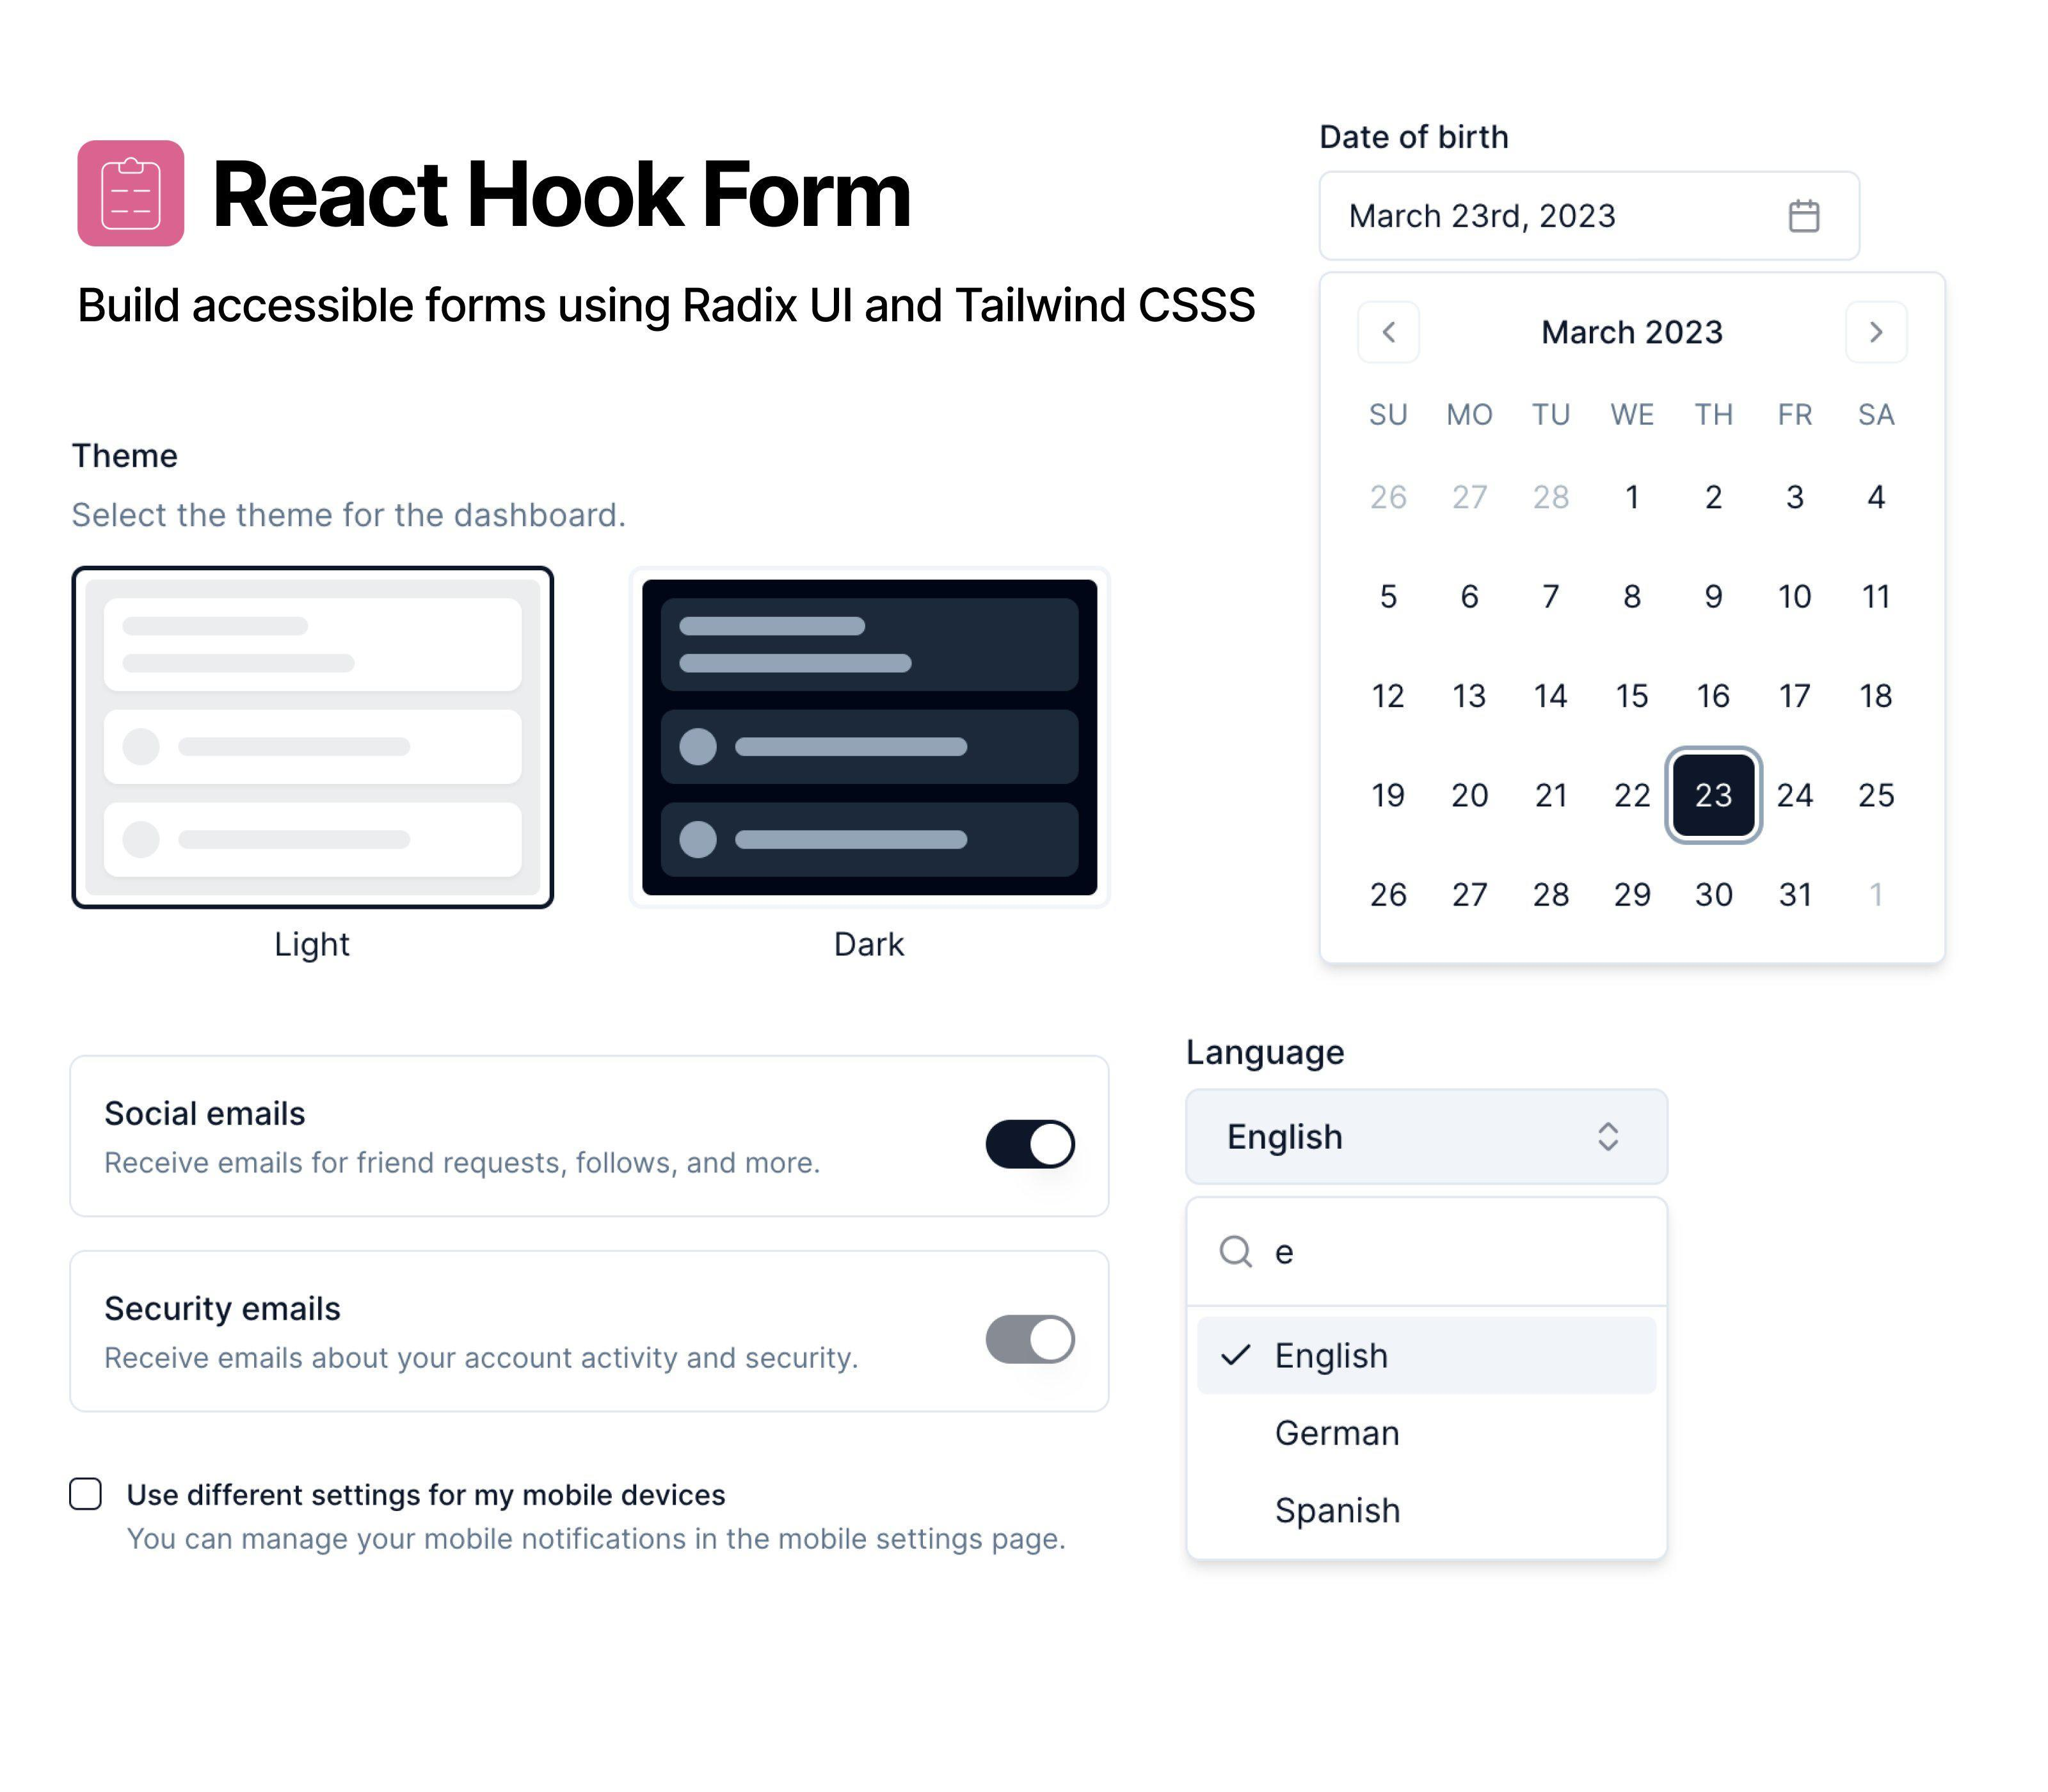checkbox: (71, 1475, 103, 1512)
dropdown: (1189, 1090, 1668, 1186)
icon: (1785, 197, 1832, 239)
input: (1189, 1195, 1665, 1301), (1324, 171, 1783, 259)
label: (211, 148, 916, 237), (120, 1475, 731, 1515), (1317, 115, 1519, 162), (99, 1289, 350, 1325), (98, 1094, 315, 1135), (1266, 1331, 1398, 1379), (1270, 1412, 1407, 1454), (1275, 1494, 1404, 1534), (73, 435, 188, 477), (270, 918, 357, 972), (832, 921, 913, 965)
switch: (986, 1315, 1080, 1365), (986, 1122, 1076, 1172)
